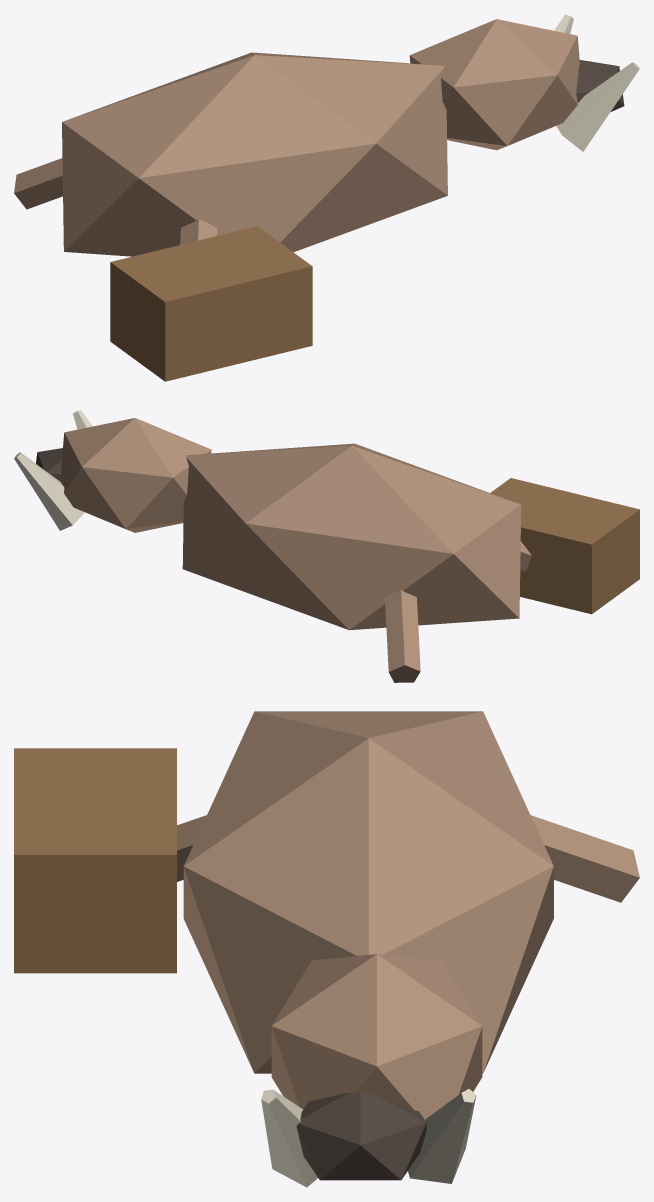
The model's file is boar_sounder_harvest.lod1.glb.
3 views of the same model, one above another, from view 1: azimuth 30°, elevation 25°; view 2: azimuth 150°, elevation 25°; view 3: azimuth 270°, elevation 25° (orthographic). The views are drawn at different scales.
Size of the model in its own units: 2.4 by 0.8352 by 1.53.
